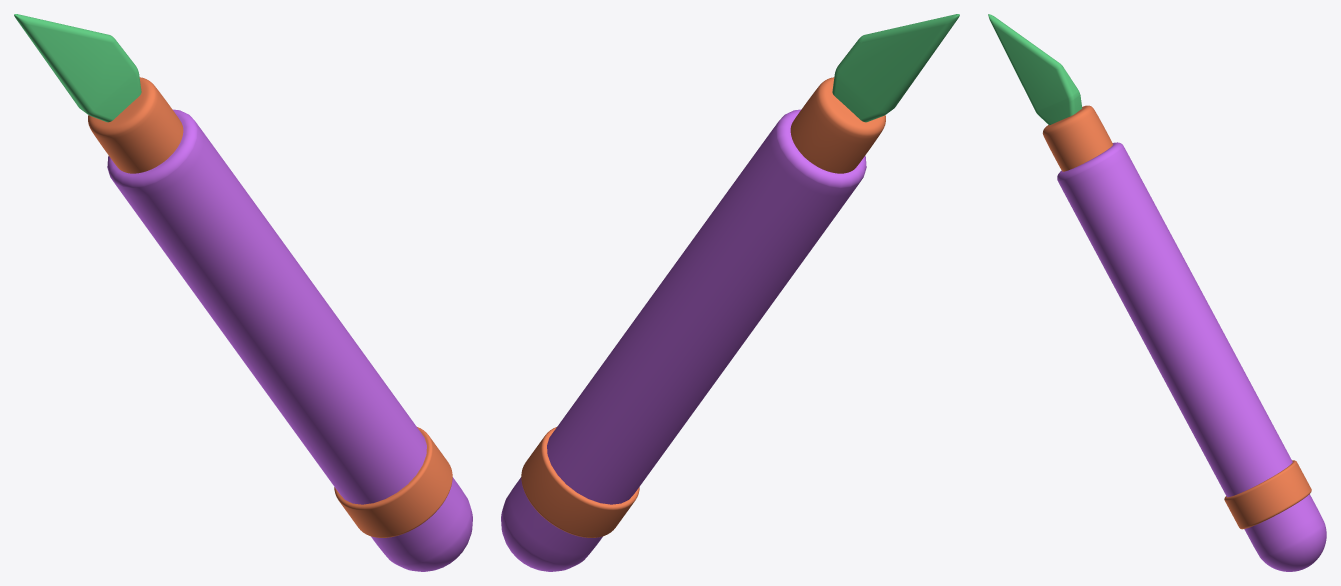
Rendered from 12. Craft Knife.glb.
The picture shows the model from 3 angles, left to right: view 1: azimuth 30°, elevation 25°; view 2: azimuth 150°, elevation 25°; view 3: azimuth 330°, elevation 25°; orthographic projection. The views are drawn at different scales.
Visible parts, largest first — view 1: Craft Knife, Cube, Cylinder.001, Cylinder.002; view 2: Craft Knife, Cube, Cylinder.001, Cylinder.002; view 3: Craft Knife, Cube, Cylinder.002, Cylinder.001.
Boxes of the visible parts, left/top/right/bottom form: Craft Knife: left=107, top=109, right=472, bottom=571; Cube: left=14, top=14, right=141, bottom=122; Cylinder.001: left=88, top=77, right=183, bottom=173; Cylinder.002: left=334, top=427, right=452, bottom=537; Craft Knife: left=501, top=109, right=866, bottom=571; Cube: left=832, top=14, right=959, bottom=122; Cylinder.001: left=790, top=77, right=885, bottom=173; Cylinder.002: left=521, top=427, right=639, bottom=537; Craft Knife: left=1057, top=142, right=1326, bottom=571; Cube: left=988, top=14, right=1082, bottom=125; Cylinder.002: left=1224, top=460, right=1311, bottom=529; Cylinder.001: left=1042, top=105, right=1112, bottom=171.
Size of the model in its own units: 0.1559 by 0.215 by 0.0332.
